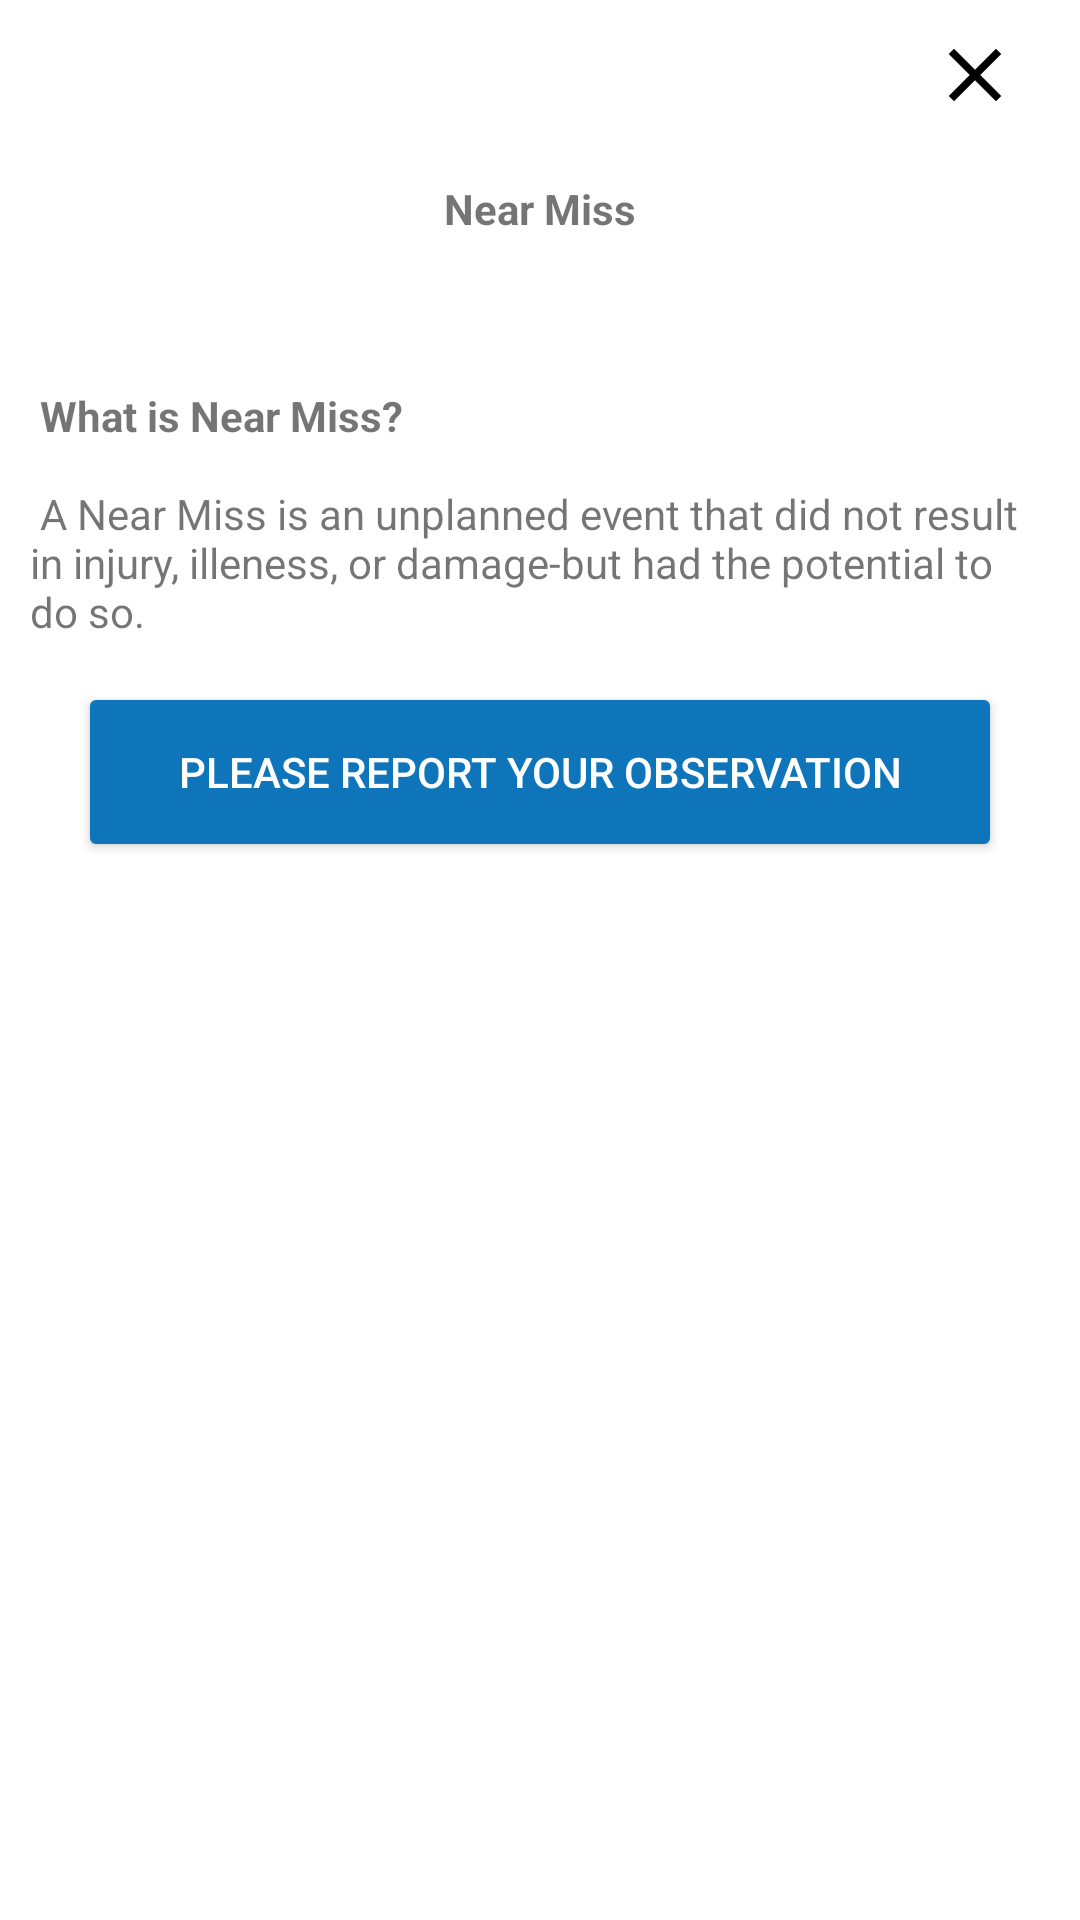

Where icons sit on this 1080 × 1920 app screen, as [left=x1, top=y1, right=x2, bottom=y2]:
close: [left=949, top=49, right=1001, bottom=101]
